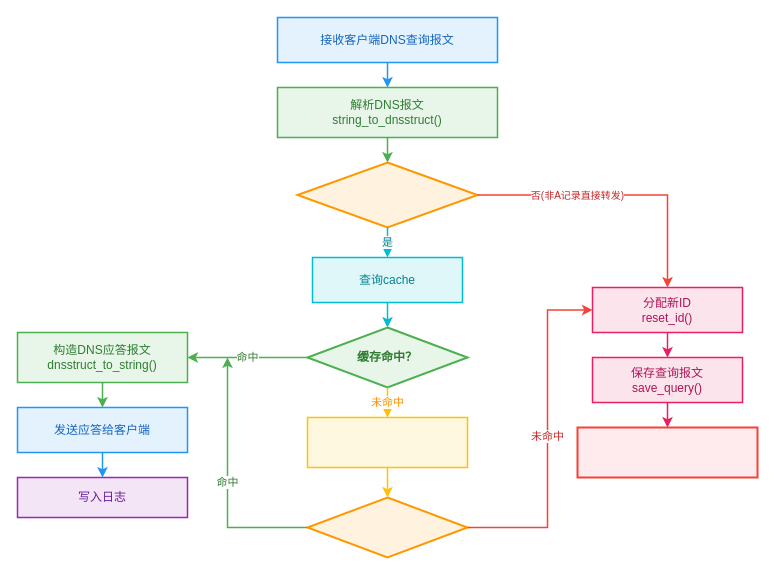
Some shapes in this 776 by 576 pixel diagram are drawn without their labels. Here are the shapes that lost their labels. From the top down, the centre of each, then its label:
At point (387, 194): "A记录查询？".
At point (387, 442): "查询本地Trie树 (dnsrelay.txt)".
At point (667, 452): "转发给远程DNS服务器".
At point (387, 527): "本地命中？".
